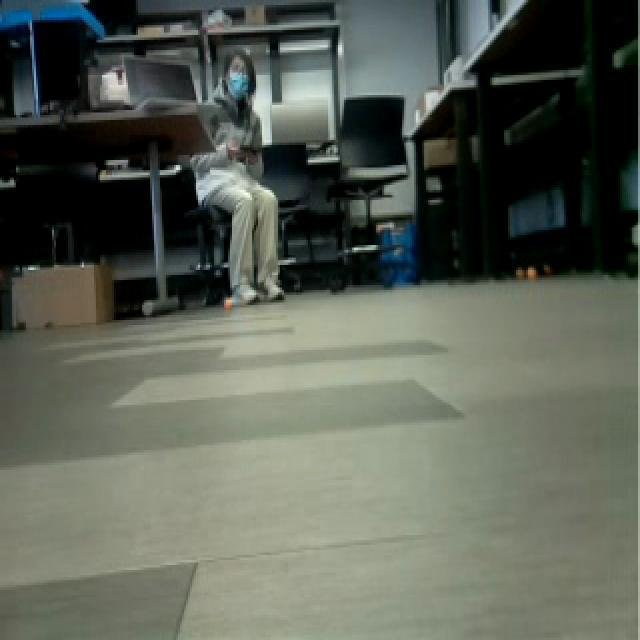oball: (524, 262, 538, 286), (220, 294, 234, 310)
